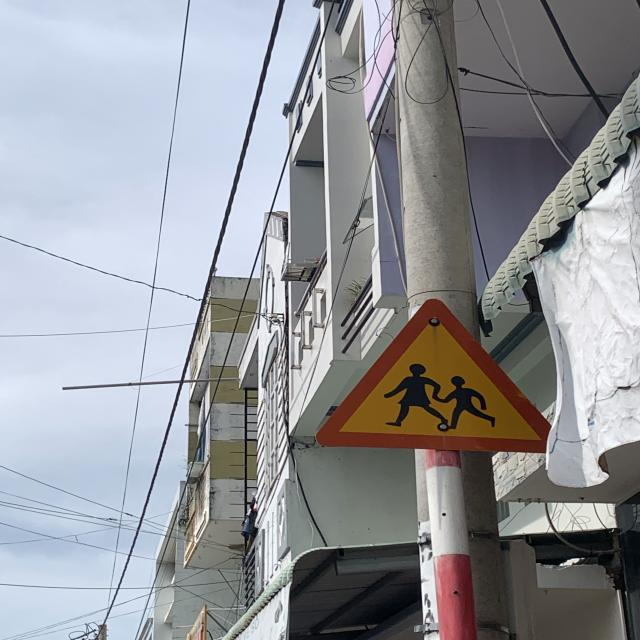Vong_Xuyen: (316, 298, 548, 452)
